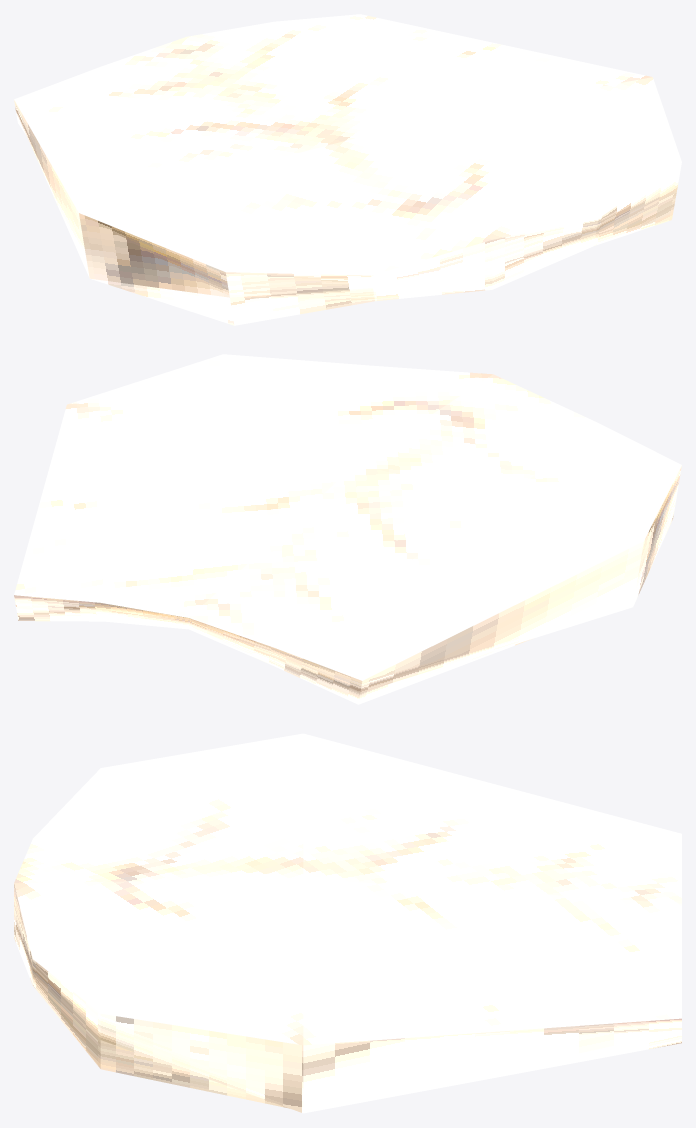
The model's file is kabuk.glb.
3 renders of one model, top to bottom at view 1: azimuth 30°, elevation 25°; view 2: azimuth 150°, elevation 25°; view 3: azimuth 270°, elevation 25°, orthographic. The views are drawn at different scales.
Visible parts, largest first — view 1: kabuk; view 2: kabuk; view 3: kabuk.
Part boxes in pixels (x1,y1,x2,y2): kabuk: (14, 14, 681, 325); kabuk: (14, 354, 681, 704); kabuk: (14, 733, 681, 1113).
Size of the model in its own units: 2.58 by 0.4206 by 2.37.
